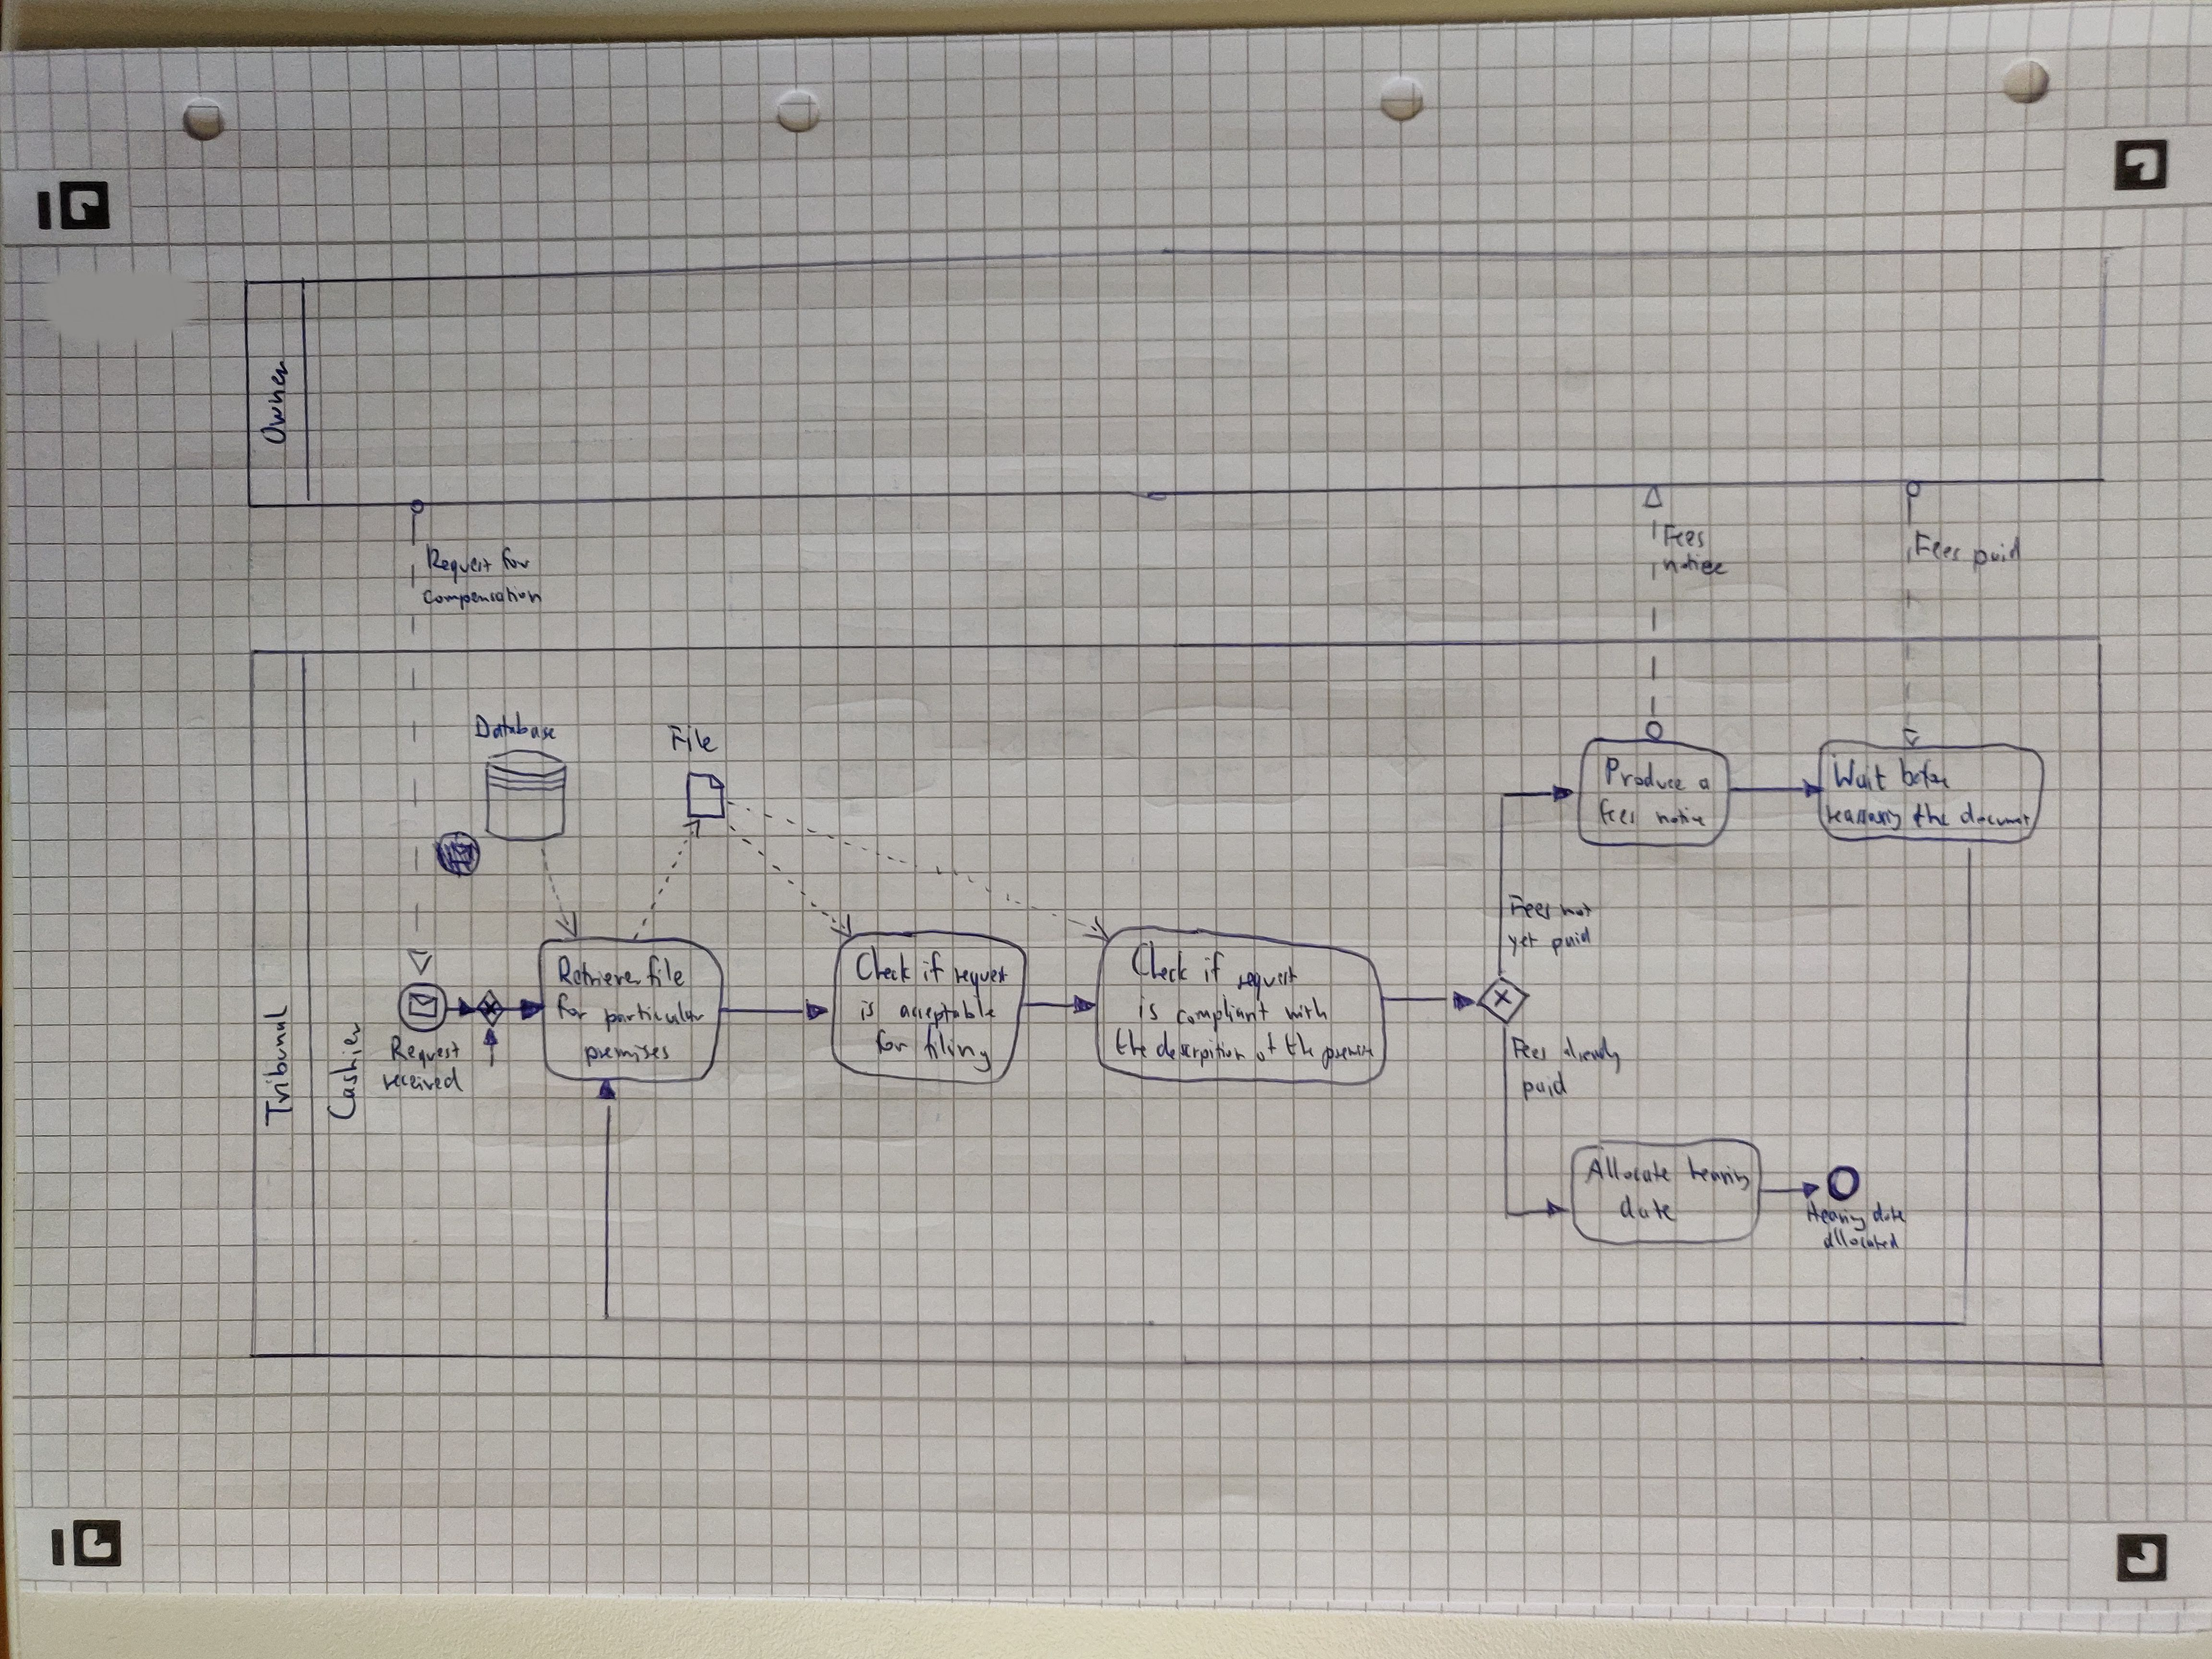Allocate: (1583, 1152, 1674, 1187)
Cashier: (322, 1018, 364, 1124)
Check: (1130, 939, 1191, 985), (855, 943, 913, 986)
Compensation: (420, 584, 545, 612)
Database: (470, 709, 559, 744)
Fees: (1912, 526, 1965, 566), (1505, 890, 1554, 924), (1662, 519, 1709, 552), (1510, 1033, 1548, 1065)
File: (664, 721, 723, 756)
Hearing: (1803, 1199, 1869, 1234)
Owner: (258, 357, 291, 448)
Produce: (1601, 755, 1689, 793)
Request: (423, 542, 495, 587), (387, 1032, 463, 1072)
Retriever: (556, 953, 646, 990)
Tribunal: (260, 1002, 296, 1129)
Wait: (1831, 756, 1890, 796)
a: (1695, 775, 1716, 795)
acceptable: (897, 993, 1000, 1032)
allocated: (1822, 1225, 1902, 1253)
already: (1561, 1033, 1623, 1077)
before: (1897, 755, 1952, 793)
compliant: (1174, 992, 1273, 1035)
date: (1618, 1192, 1679, 1225), (1871, 1199, 1909, 1225)
descripition: (1153, 1028, 1249, 1072)
document: (1958, 798, 2033, 829)
fees: (1597, 796, 1639, 828)
file: (644, 953, 686, 992)
filing: (921, 1019, 995, 1075)
for: (873, 1026, 911, 1058), (556, 990, 590, 1023), (498, 545, 533, 572)
if: (1200, 950, 1228, 988), (921, 948, 946, 986)
is: (1136, 993, 1162, 1025), (859, 997, 878, 1025)
not: (1557, 899, 1595, 920)
notice: (1658, 549, 1733, 579), (1653, 805, 1709, 829)
of: (1254, 1030, 1278, 1065)
paid: (1970, 532, 2022, 575), (1521, 1068, 1571, 1103), (1548, 925, 1594, 960)
particular: (601, 999, 707, 1035)
premise: (1318, 1042, 1376, 1073)
premises: (582, 1042, 672, 1070)
received: (380, 1063, 465, 1094)
request: (1235, 962, 1301, 1002), (951, 964, 1010, 999)
tearity: (1684, 1152, 1752, 1194)
teassarry: (1824, 802, 1904, 833)
the: (1909, 800, 1952, 831), (1113, 1026, 1150, 1061), (1282, 1030, 1318, 1060)
with: (1282, 993, 1329, 1023)
yet: (1505, 931, 1541, 960)
